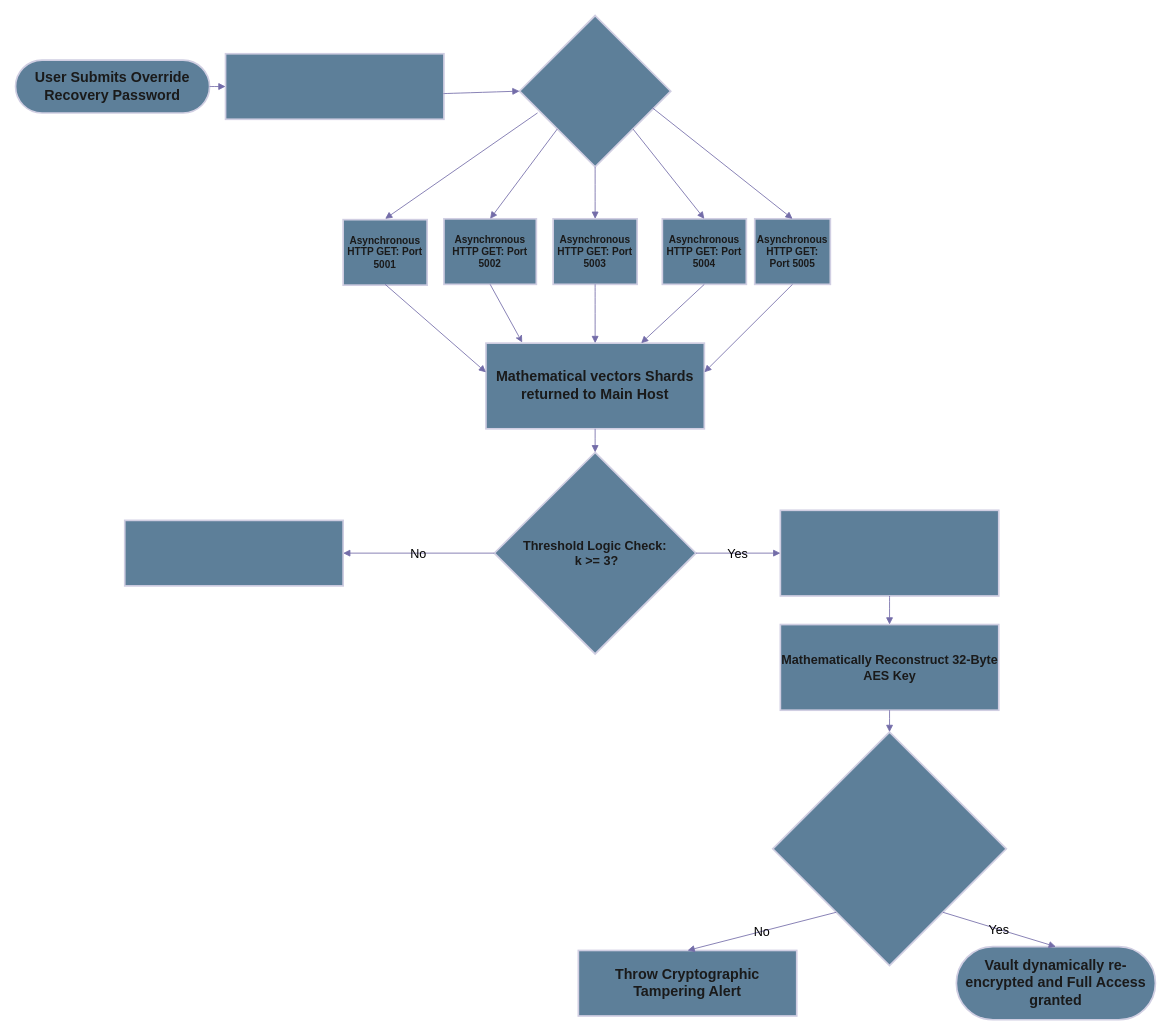
Some shapes in this 1170 by 1035 pixel diagram are drawn without their labels. The centre of each missing label's shape, as x and y in pixels:
"Flask Backend Triggers Network Dispatch" belongs at point 334,86.
"Network Dispatch" belongs at point 594,90.
"Pass arrays into Shamir Lagrange Polynomial Algorithm" belongs at point 889,552.
"Security Check: Decryption Success?" belongs at point 889,848.
"Throw Insufficient Threshold Error" belongs at point 233,552.
